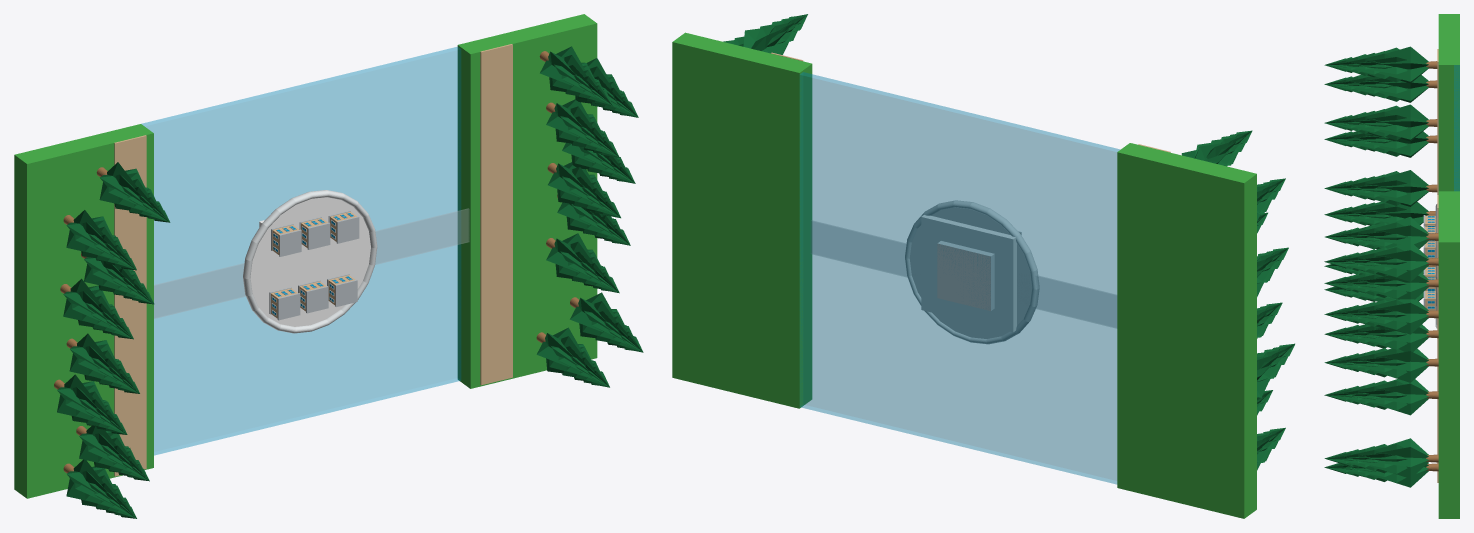
File: island.obj
The picture shows the model from 3 angles, left to right: view 1: azimuth 30°, elevation 25°; view 2: azimuth 150°, elevation 25°; view 3: azimuth 270°, elevation 25°; orthographic projection. The views are drawn at different scales.
Parts seen in each view (by area): view 1: obj_0, obj_2, obj_1, obj_14, obj_5, obj_15, obj_13, obj_12, obj_29, obj_30, obj_18, obj_26 (+19 smaller); view 2: obj_0, obj_1, obj_2, obj_4, obj_13, obj_3, obj_5, obj_12, obj_24, obj_25, obj_30, obj_28; view 3: obj_1, obj_2, obj_17, obj_23, obj_29, obj_25, obj_27, obj_21, obj_18, obj_19, obj_24, obj_22 (+13 smaller).
Boxes of the visible parts, x1,y1,x2,y2 form: obj_0: (142, 47, 460, 455); obj_2: (14, 124, 153, 498); obj_1: (457, 14, 597, 388); obj_14: (480, 44, 512, 385); obj_5: (250, 197, 370, 326); obj_15: (114, 135, 146, 476); obj_13: (154, 208, 469, 318); obj_12: (243, 190, 377, 333); obj_29: (66, 333, 139, 393); obj_30: (54, 374, 127, 434); obj_18: (546, 233, 619, 293); obj_26: (63, 210, 136, 270); obj_0: (800, 72, 1119, 484); obj_1: (672, 32, 812, 408); obj_2: (1117, 143, 1256, 518); obj_4: (921, 215, 1016, 332); obj_13: (811, 220, 1116, 328); obj_3: (937, 241, 994, 310); obj_5: (909, 207, 1031, 338); obj_12: (905, 200, 1039, 344); obj_24: (739, 14, 807, 54); obj_25: (1181, 130, 1252, 166); obj_30: (1257, 343, 1294, 397); obj_28: (1257, 247, 1288, 296); obj_1: (1438, 191, 1459, 518); obj_2: (1438, 14, 1459, 191); obj_17: (1324, 438, 1438, 478); obj_23: (1324, 244, 1438, 281); obj_29: (1324, 170, 1437, 206); obj_25: (1324, 46, 1437, 83); obj_27: (1324, 104, 1437, 141); obj_21: (1324, 299, 1438, 334); obj_18: (1324, 379, 1438, 415); obj_19: (1324, 348, 1438, 382); obj_24: (1325, 217, 1438, 249); obj_22: (1324, 272, 1438, 299).
Size of the model in its own units: 360 by 204 by 90.
